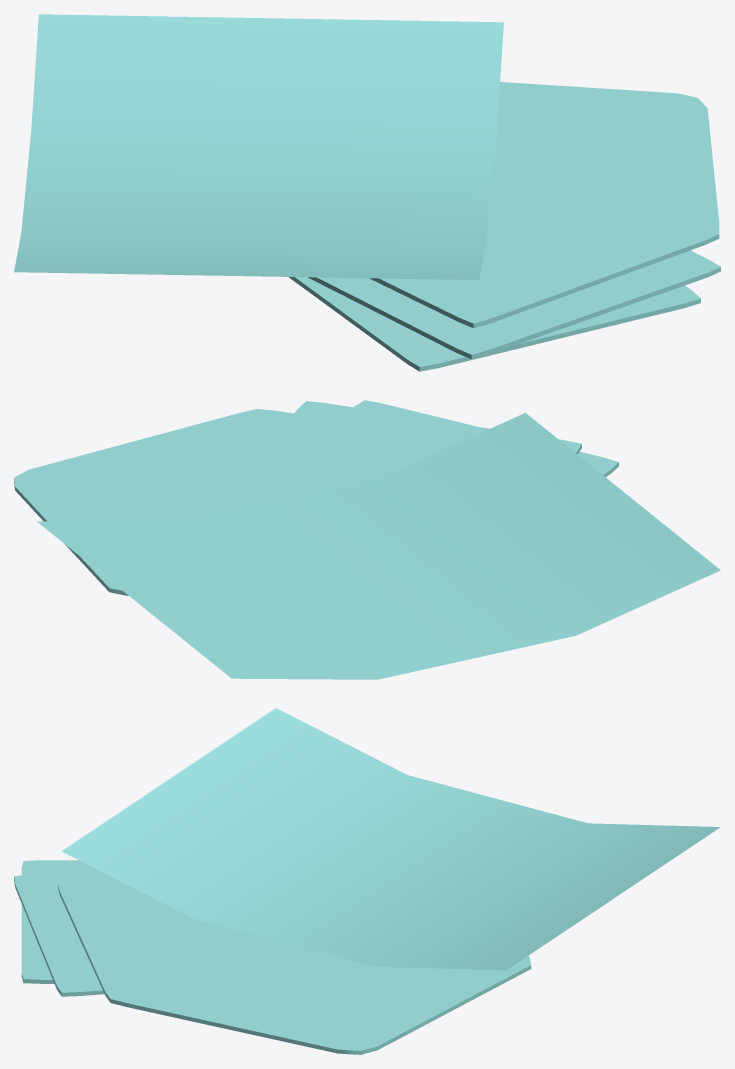
The model's file is letter_stack.fbx.
The picture shows the model from 3 angles, top to bottom: view 1: azimuth 30°, elevation 25°; view 2: azimuth 150°, elevation 25°; view 3: azimuth 270°, elevation 25°; orthographic projection. The views are drawn at different scales.
Visible parts, largest first — view 1: pPlane3, pCube21, pCube20, pCube19; view 2: pPlane3, pCube21, pCube20, pCube19; view 3: pPlane3, pCube21, pCube20, pCube19.
Part boxes in pixels (left/top/right/bottom): pPlane3: left=14, top=14, right=503, bottom=280; pCube21: left=369, top=82, right=719, bottom=328; pCube20: left=308, top=250, right=720, bottom=359; pCube19: left=289, top=277, right=700, bottom=371; pPlane3: left=37, top=413, right=720, bottom=679; pCube21: left=14, top=409, right=466, bottom=595; pCube20: left=294, top=401, right=581, bottom=454; pCube19: left=353, top=400, right=618, bottom=477; pPlane3: left=61, top=708, right=720, bottom=970; pCube21: left=58, top=878, right=531, bottom=1054; pCube20: left=14, top=869, right=112, bottom=996; pCube19: left=21, top=860, right=96, bottom=983.
Bounding box in the file's own units: 368 × 26.62 × 356.
